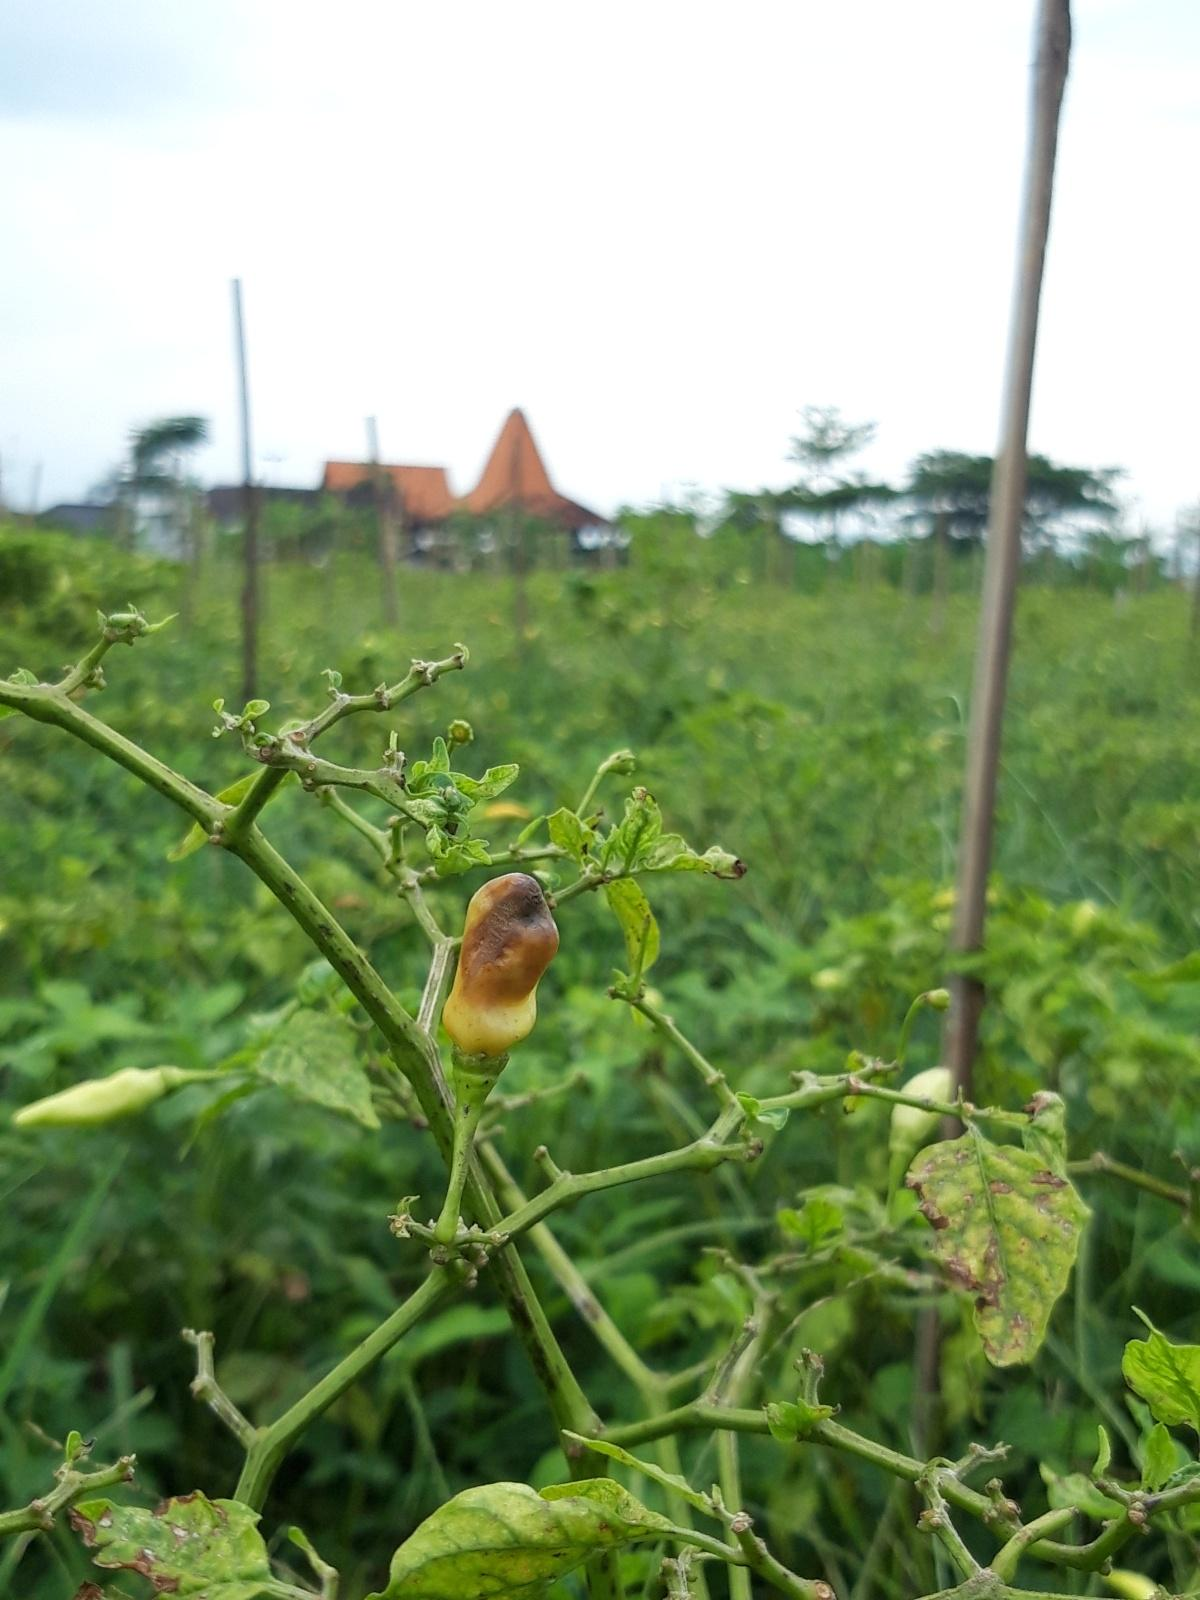cabai_normal: (13, 1065, 190, 1131), (890, 1066, 952, 1141)
lalat_buah: (439, 872, 561, 1062)
